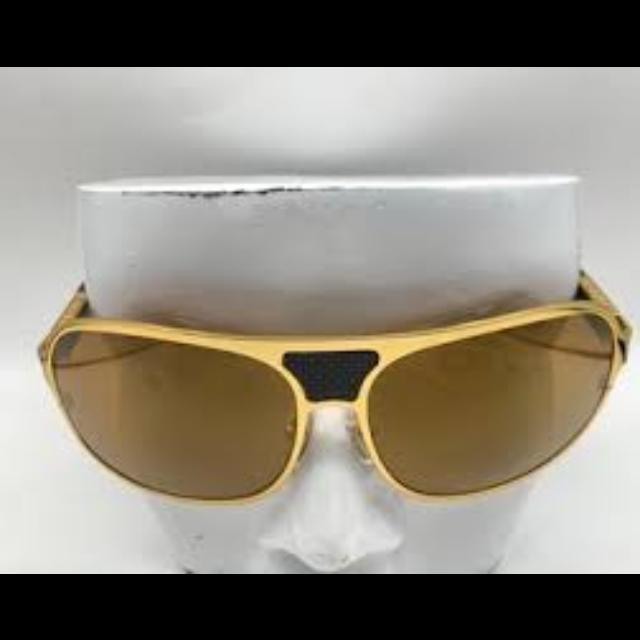sunglasses: (21, 276, 640, 510)
